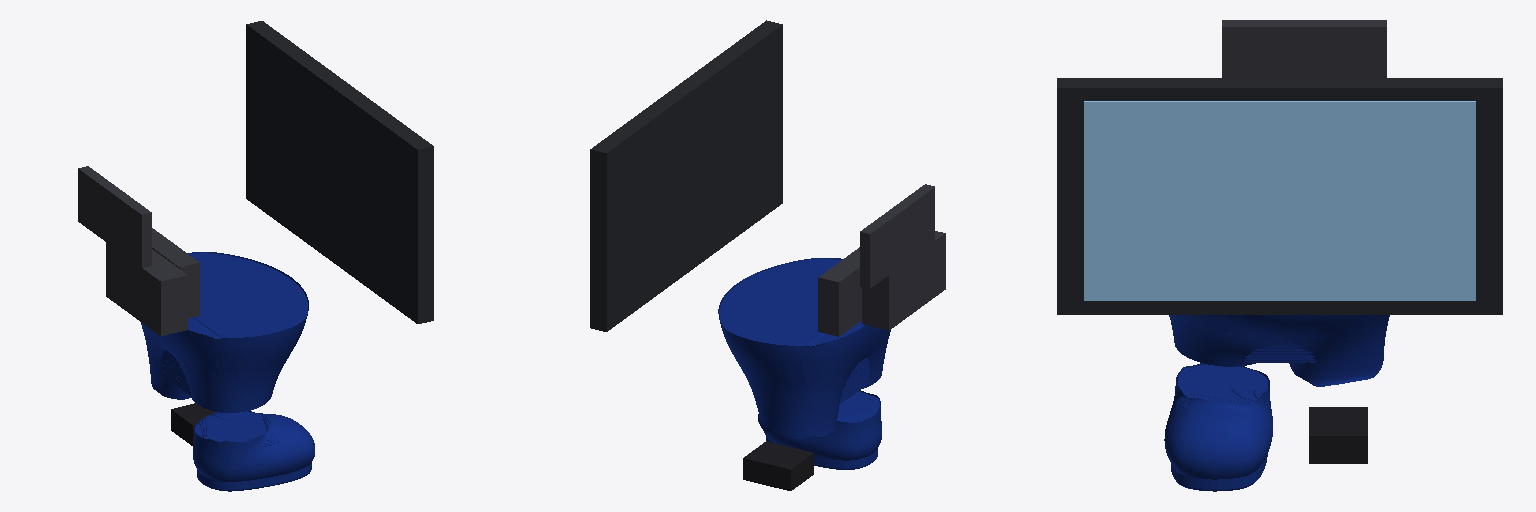
robot.urdf — haetburi:
<?xml version="1.0"?>
<!-- Haetburi biped (v14_sts3032_hidden_7in) - generated by tools/build_model.py, do not edit by hand -->
<robot name="haetburi">
  <mujoco>
    <compiler meshdir="." balanceinertia="true" discardvisual="false" strippath="false" fusestatic="false"/>
  </mujoco>
  <material name="display"><color rgba="0.18 0.19 0.21 1"/></material>
  <material name="screen"><color rgba="0.62 0.80 0.95 1"/></material>
  <material name="shell"><color rgba="0.106 0.216 0.541 1"/></material>
  <material name="motor"><color rgba="0.15 0.15 0.17 1"/></material>
  <material name="foot"><color rgba="0.25 0.25 0.28 1"/></material>
  <link name="world"/>
  <joint name="floating_base" type="floating">
    <parent link="world"/><child link="pelvis"/>
    <origin xyz="0 0 0" rpy="0 0 0"/>
  </joint>
  <link name="pelvis">
    <inertial>
      <origin xyz="-0.012249 -0.00140855 0.0390844" rpy="0 0 0"/>
      <mass value="0.279005"/>
      <inertia ixx="0.000312305" ixy="-1.13454e-05" ixz="0.000131474" iyy="0.000376163" iyz="4.51775e-06" izz="0.000297298"/>
    </inertial>
    <visual><origin xyz="0 0 0" rpy="0 0 0"/><geometry><mesh filename="meshes/pelvis.stl"/></geometry><material name="shell"/></visual>
    <visual><origin xyz="0.00550237 0.0220127 0.02575" rpy="0 0 0"/><geometry><box size="0.023 0.012 0.0275"/></geometry><material name="motor"/></visual>
    <visual><origin xyz="0.00549763 -0.0222844 0.02575" rpy="0 0 0"/><geometry><box size="0.023 0.012 0.0275"/></geometry><material name="motor"/></visual>
    <visual><origin xyz="-0.0439285 -0.009471 0.067375" rpy="0 0 0"/><geometry><box size="0.016 0.056 0.031"/></geometry><material name="foot"/></visual>
    <visual><origin xyz="-0.0285285 0.005929 0.067375" rpy="0 0 0"/><geometry><box size="0.012 0.065 0.03"/></geometry><material name="foot"/></visual>
    <visual><origin xyz="-0.0516285 0.009779 0.1001" rpy="0 0 0"/><geometry><box size="0.006 0.065 0.03"/></geometry><material name="foot"/></visual>
    <visual><origin xyz="-0.0150535 -0.003696 0.021175" rpy="0 0 0"/><geometry><box size="0.008 0.035 0.018"/></geometry><material name="foot"/></visual>
    <visual><origin xyz="-0.0054285 0.000154 0.0154" rpy="0 0 0"/><geometry><box size="0.006 0.022 0.017"/></geometry><material name="foot"/></visual>
    <collision><origin xyz="0.00671404 -0.000131536 0.023485" rpy="0 0 0"/><geometry><box size="0.0804981 0.106897 0.04697"/></geometry></collision>
  </link>
  <link name="torso">
    <inertial>
      <origin xyz="0.00713129 0.000111234 0.122365" rpy="0 0 0"/>
      <mass value="1.14872"/>
      <inertia ixx="0.0138395" ixy="-4.39134e-05" ixz="0.0014008" iyy="0.0137394" iyz="-4.11667e-05" izz="0.00770909"/>
    </inertial>
    <visual><origin xyz="0 0 0" rpy="0 0 0"/><geometry><mesh filename="meshes/torso.stl"/></geometry><material name="shell"/></visual>
    <visual><origin xyz="0.0755394 0 0.052581" rpy="0 0 0"/><geometry><box size="0.0094 0.1755 0.0985"/></geometry><material name="display"/></visual>
    <visual><origin xyz="0.0802394 0 0.052581" rpy="0 0 0"/><geometry><box size="0.0004 0.1542 0.0866"/></geometry><material name="screen"/></visual>
    <collision><origin xyz="-0.0350725 -1.08413e-06 0.0258751" rpy="0 0 0"/><geometry><box size="0.164626 0.111639 0.10993"/></geometry></collision>
    <collision><origin xyz="0.0428274 0.0817158 0.0521403" rpy="0 0 0"/><geometry><sphere radius="0.0603858"/></geometry></collision>
    <collision><origin xyz="0.0431235 -0.0818484 0.0521403" rpy="0 0 0"/><geometry><sphere radius="0.0602941"/></geometry></collision>
    <collision><origin xyz="-0.00537556 0.000274911 0.105557" rpy="0 0 0"/><geometry><sphere radius="0.107279"/></geometry></collision>
    <collision><origin xyz="-0.0093671 -0.00012639 0.154956" rpy="0 0 0"/><geometry><sphere radius="0.123768"/></geometry></collision>
    <collision><origin xyz="-0.0142634 -0.000208602 0.204364" rpy="0 0 0"/><geometry><sphere radius="0.122334"/></geometry></collision>
    <collision><origin xyz="-0.0111896 0.000881206 0.253769" rpy="0 0 0"/><geometry><sphere radius="0.106374"/></geometry></collision>
    <collision><origin xyz="-0.00662124 0.00697499 0.303205" rpy="0 0 0"/><geometry><sphere radius="0.0758203"/></geometry></collision>
    <collision><origin xyz="-0.0121343 -0.00230539 0.352597" rpy="0 0 0"/><geometry><sphere radius="0.0440008"/></geometry></collision>
    <collision><origin xyz="0.0755394 0 0.052581" rpy="0 0 0"/><geometry><box size="0.0094 0.1755 0.0985"/></geometry></collision>
  </link>
  <link name="leg_l">
    <inertial>
      <origin xyz="-0.000367992 -0.000132726 -0.0185944" rpy="0 0 0"/>
      <mass value="0.0288688"/>
      <inertia ixx="7.12359e-06" ixy="-5.16586e-09" ixz="1.12115e-07" iyy="5.20705e-06" iyz="5.07951e-08" izz="6.41093e-06"/>
    </inertial>
    <visual><origin xyz="0 0 0" rpy="0 0 0"/><geometry><mesh filename="meshes/leg_l.stl"/></geometry><material name="shell"/></visual>
    <collision><origin xyz="-5.09274e-07 -7.0208e-06 -0.00549822" rpy="0 0 0"/><geometry><box size="0.0419908 0.0384706 0.0109964"/></geometry></collision>
  </link>
  <link name="foot_l">
    <inertial>
      <origin xyz="0.00106087 0.0048784 -0.0015144" rpy="0 0 0"/>
      <mass value="0.0833169"/>
      <inertia ixx="1.53542e-05" ixy="-8.19337e-07" ixz="-2.8313e-07" iyy="2.30546e-05" iyz="-8.12645e-07" izz="2.68084e-05"/>
    </inertial>
    <visual><origin xyz="0 0 0" rpy="0 0 0"/><geometry><mesh filename="meshes/foot_l.stl"/></geometry><material name="shell"/></visual>
    <visual><origin xyz="0 0.0055 3.36778e-19" rpy="0 0 0"/><geometry><box size="0.0275 0.023 0.012"/></geometry><material name="motor"/></visual>
    <collision><origin xyz="0 0 0" rpy="0 0 0"/><geometry><mesh filename="meshes/foot_l.stl"/></geometry></collision>
  </link>
  <link name="leg_r">
    <inertial>
      <origin xyz="-0.000275034 0.000152833 -0.0184943" rpy="0 0 0"/>
      <mass value="0.0289852"/>
      <inertia ixx="7.18699e-06" ixy="-2.16281e-08" ixz="8.77493e-08" iyy="5.21536e-06" iyz="-5.85372e-08" izz="6.45452e-06"/>
    </inertial>
    <visual><origin xyz="0 0 0" rpy="0 0 0"/><geometry><mesh filename="meshes/leg_r.stl"/></geometry><material name="shell"/></visual>
    <collision><origin xyz="1.21621e-06 1.11302e-05 -0.00542772" rpy="0 0 0"/><geometry><box size="0.0419568 0.0385446 0.0108554"/></geometry></collision>
  </link>
  <link name="foot_r">
    <inertial>
      <origin xyz="0.000557456 -0.0045847 -0.00155031" rpy="0 0 0"/>
      <mass value="0.0831444"/>
      <inertia ixx="1.51956e-05" ixy="7.92488e-07" ixz="-1.55138e-07" iyy="2.28847e-05" iyz="7.60891e-07" izz="2.65985e-05"/>
    </inertial>
    <visual><origin xyz="0 0 0" rpy="0 0 0"/><geometry><mesh filename="meshes/foot_r.stl"/></geometry><material name="shell"/></visual>
    <visual><origin xyz="0 -0.0055 3.36778e-19" rpy="0 0 0"/><geometry><box size="0.0275 0.023 0.012"/></geometry><material name="motor"/></visual>
    <collision><origin xyz="0 0 0" rpy="0 0 0"/><geometry><mesh filename="meshes/foot_r.stl"/></geometry></collision>
  </link>
  <joint name="waist_fixed" type="fixed">
    <parent link="pelvis"/><child link="torso"/>
    <origin xyz="0 0 0.04697" rpy="0 0 0"/>
  </joint>
  <joint name="hip_yaw_l" type="revolute">
    <parent link="pelvis"/><child link="leg_l"/>
    <origin xyz="2.37097e-06 0.0220127 0" rpy="0 0 0"/>
    <axis xyz="0 0 1"/>
    <limit lower="-0.523599" upper="0.523599" effort="0.44" velocity="11.6"/>
    <dynamics damping="0.03142857142857144" friction="0.012571428571428574"/>
  </joint>
  <joint name="hip_yaw_r" type="revolute">
    <parent link="pelvis"/><child link="leg_r"/>
    <origin xyz="-2.37097e-06 -0.0222844 0" rpy="0 0 0"/>
    <axis xyz="0 0 1"/>
    <limit lower="-0.523599" upper="0.523599" effort="0.44" velocity="11.6"/>
    <dynamics damping="0.03142857142857144" friction="0.012571428571428574"/>
  </joint>
  <joint name="ankle_roll_l" type="revolute">
    <parent link="leg_l"/><child link="foot_l"/>
    <origin xyz="0.00933212 -0.00456144 -0.0352375" rpy="0 0 0"/>
    <axis xyz="1 0 0"/>
    <limit lower="-0.261799" upper="0.261799" effort="0.44" velocity="11.6"/>
    <dynamics damping="0.03142857142857144" friction="0.012571428571428574"/>
  </joint>
  <joint name="ankle_roll_r" type="revolute">
    <parent link="leg_r"/><child link="foot_r"/>
    <origin xyz="0.0102099 0.00397892 -0.0352375" rpy="0 0 0"/>
    <axis xyz="1 0 0"/>
    <limit lower="-0.261799" upper="0.261799" effort="0.44" velocity="11.6"/>
    <dynamics damping="0.03142857142857144" friction="0.012571428571428574"/>
  </joint>
</robot>

--- What the picture shows (computed from the rendered views, not written in the file) ---
Views: 3 orthographic renders of the robot side by side, from view 1: azimuth 30°, elevation 25°; view 2: azimuth 150°, elevation 25°; view 3: azimuth 270°, elevation 25°.
Robot: haetburi — 7 links, 6 joints (4 revolute, 1 fixed, 1 floating); root link world; default pose: all joints at 0.
Links seen in each view (by area): view 1: torso, pelvis, foot_r, foot_l, leg_l; view 2: torso, pelvis, foot_r, foot_l, leg_l; view 3: torso, pelvis, foot_r, foot_l, leg_l.
Boxes of the visible links, x1,y1,x2,y2 form: torso: (246,21,433,323); pelvis: (78,166,308,412); foot_r: (193,411,314,491); foot_l: (171,403,214,446); leg_l: (150,368,190,399); torso: (590,20,782,331); pelvis: (718,184,945,422); foot_r: (763,390,881,469); foot_l: (743,441,813,490); leg_l: (757,407,838,438); torso: (1057,78,1502,314); pelvis: (1169,20,1389,366); foot_r: (1164,363,1272,491); foot_l: (1309,407,1367,463); leg_l: (1289,344,1384,386).
Bounding box of the posed robot: 0.1351 × 0.1755 × 0.1944 m (x, y, z).
Meshes: 6 distinct files referenced, 3 mesh visuals loaded (3 binary STL); not drawn: 3 (reference not matched to a file when rendering).
